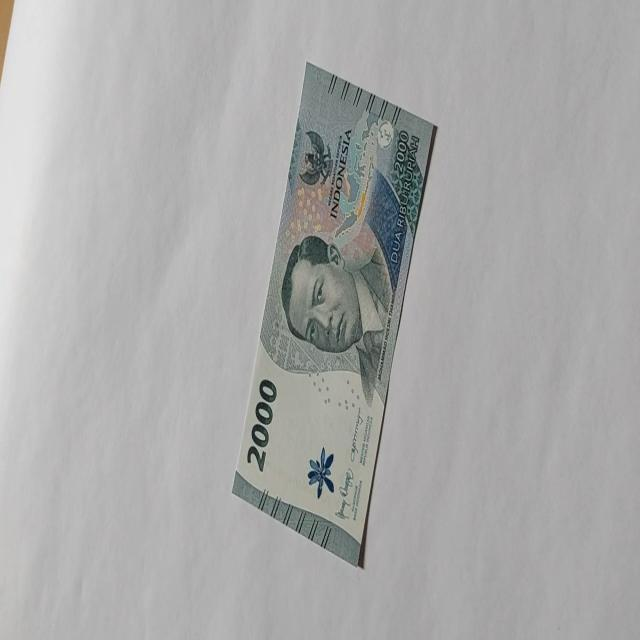dua ribu rupiah: (230, 60, 438, 568), (280, 231, 392, 406)
